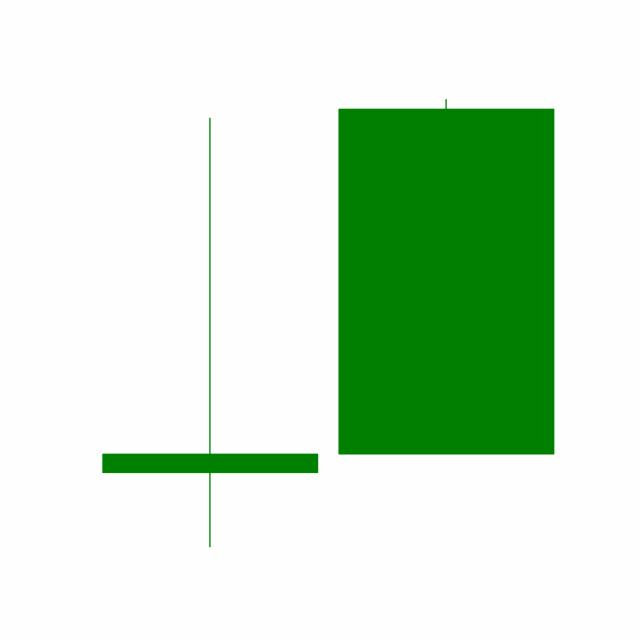Marubozu: (327, 95, 565, 458)
